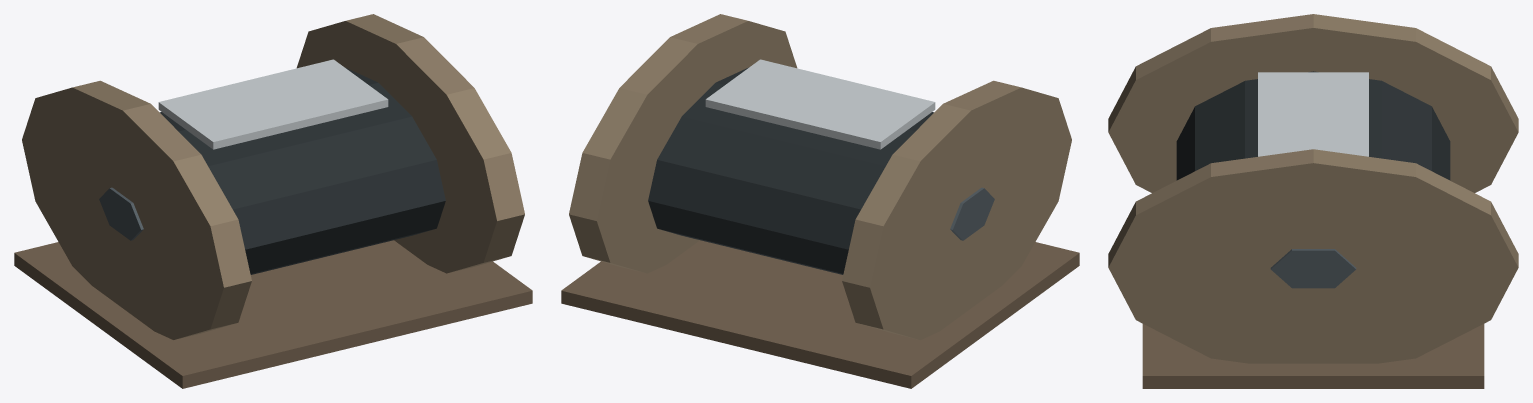
Rendered from cable_drum.glb.
The picture shows the model from 3 angles, left to right: view 1: azimuth 30°, elevation 25°; view 2: azimuth 150°, elevation 25°; view 3: azimuth 270°, elevation 25°; orthographic projection.
Visible parts, largest first — view 1: cable_drum; view 2: cable_drum; view 3: cable_drum.
Part boxes in pixels (x1,y1,x2,y2): cable_drum: [14, 14, 532, 388]; cable_drum: [561, 14, 1079, 388]; cable_drum: [1108, 14, 1518, 388].
Size of the model in its own units: 2 by 1.15 by 2.
